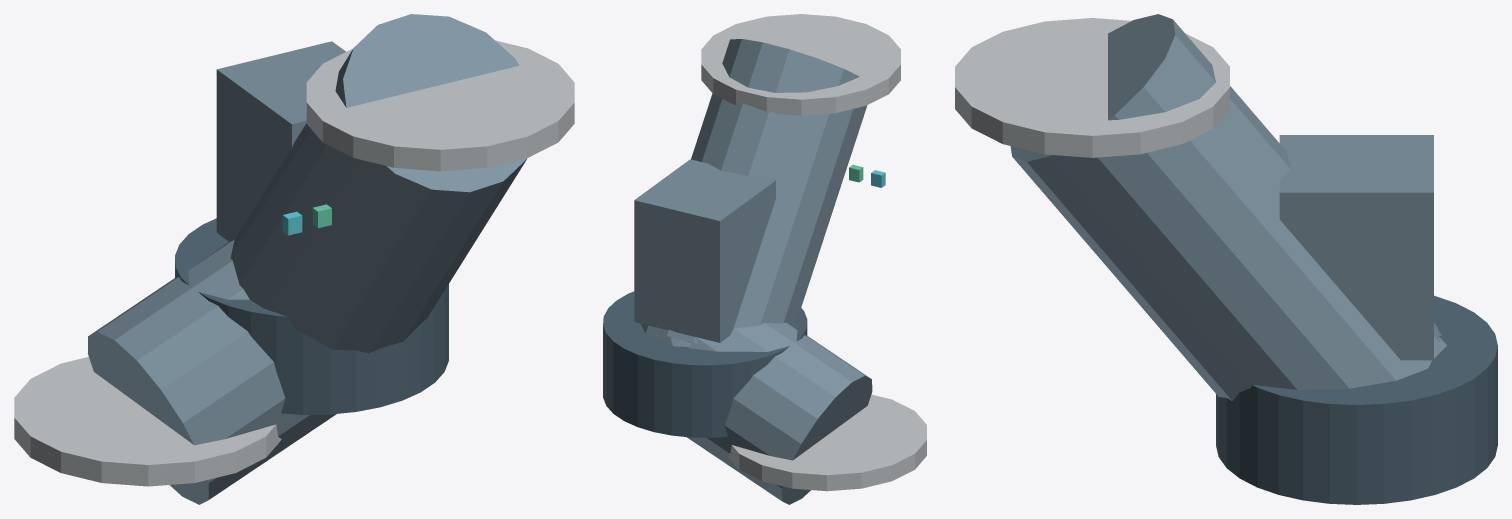
Rendered from 19_L78_CapVacuumExhaustThrottle.glb.
The picture shows the model from 3 angles, left to right: view 1: azimuth 30°, elevation 25°; view 2: azimuth 150°, elevation 25°; view 3: azimuth 270°, elevation 25°; orthographic projection. The views are drawn at different scales.
Parts seen in each view (by area): view 1: CapVacuumExhaustThrottle_Node_0000, CapVacuumExhaustThrottle_Node_0001, CapVacuumExhaustThrottle_Node_0003, CapVacuumExhaustThrottle_Node_0004, CapVacuumExhaustThrottle_Node_0005, CapVacuumExhaustThrottle_Node_0006; view 2: CapVacuumExhaustThrottle_Node_0000, CapVacuumExhaustThrottle_Node_0006, CapVacuumExhaustThrottle_Node_0001, CapVacuumExhaustThrottle_Node_0005, CapVacuumExhaustThrottle_Node_0003, CapVacuumExhaustThrottle_Node_0004; view 3: CapVacuumExhaustThrottle_Node_0000, CapVacuumExhaustThrottle_Node_0005, CapVacuumExhaustThrottle_Node_0006, CapVacuumExhaustThrottle_Node_0003.
Part boxes in pixels (box(x1,y1,x2,y2)): CapVacuumExhaustThrottle_Node_0000: box(230, 14, 527, 353); CapVacuumExhaustThrottle_Node_0001: box(87, 239, 336, 504); CapVacuumExhaustThrottle_Node_0003: box(306, 40, 574, 171); CapVacuumExhaustThrottle_Node_0004: box(14, 357, 281, 486); CapVacuumExhaustThrottle_Node_0005: box(175, 218, 448, 414); CapVacuumExhaustThrottle_Node_0006: box(216, 41, 345, 241); CapVacuumExhaustThrottle_Node_0000: box(640, 39, 867, 343); CapVacuumExhaustThrottle_Node_0006: box(634, 159, 775, 342); CapVacuumExhaustThrottle_Node_0001: box(686, 322, 872, 504); CapVacuumExhaustThrottle_Node_0005: box(603, 291, 807, 437); CapVacuumExhaustThrottle_Node_0003: box(701, 14, 900, 115); CapVacuumExhaustThrottle_Node_0004: box(728, 394, 926, 491); CapVacuumExhaustThrottle_Node_0000: box(1010, 14, 1439, 400); CapVacuumExhaustThrottle_Node_0005: box(1216, 295, 1497, 504); CapVacuumExhaustThrottle_Node_0006: box(1279, 135, 1433, 360); CapVacuumExhaustThrottle_Node_0003: box(955, 18, 1229, 157).
Size of the model in its own units: 1.08 by 1.32 by 1.23.
